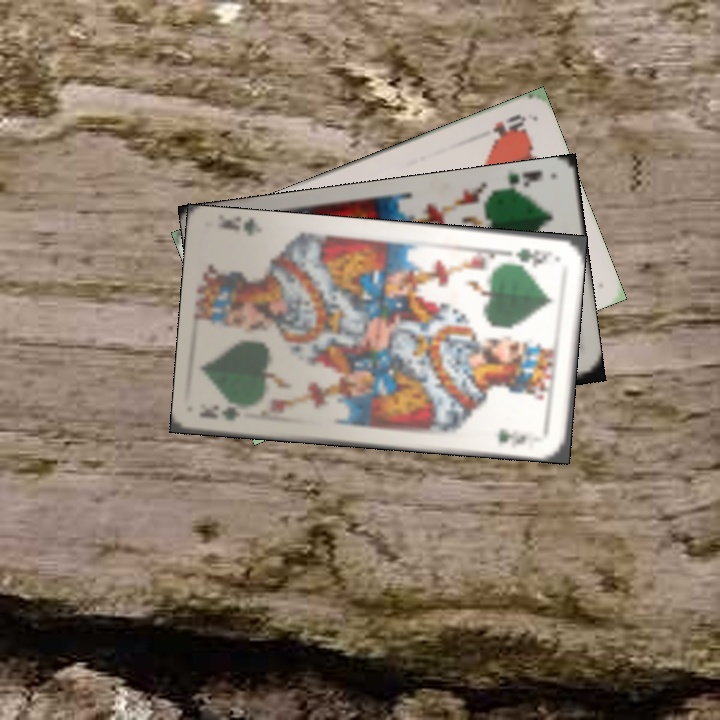GK: (493, 167, 546, 196), (500, 243, 556, 266), (196, 401, 243, 424)
HO: (488, 110, 528, 143)
